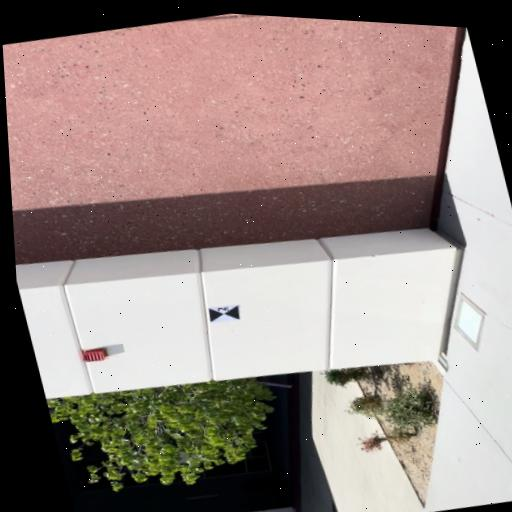target2: (210, 305, 240, 322)
